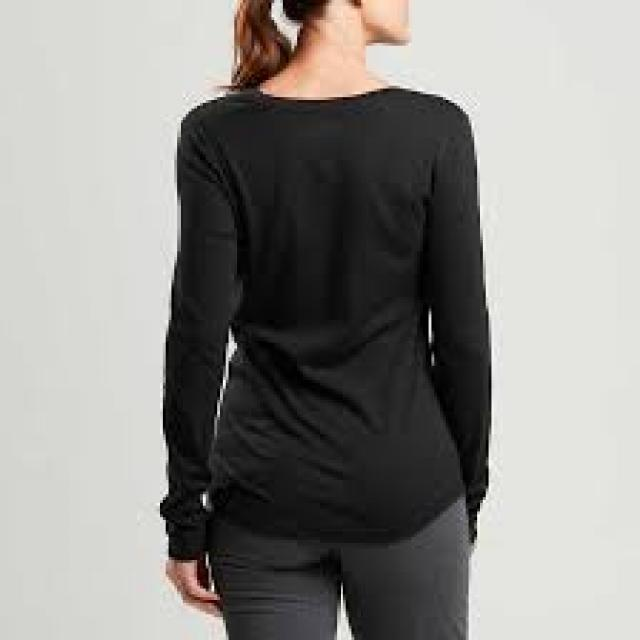plain: (157, 73, 502, 540)
